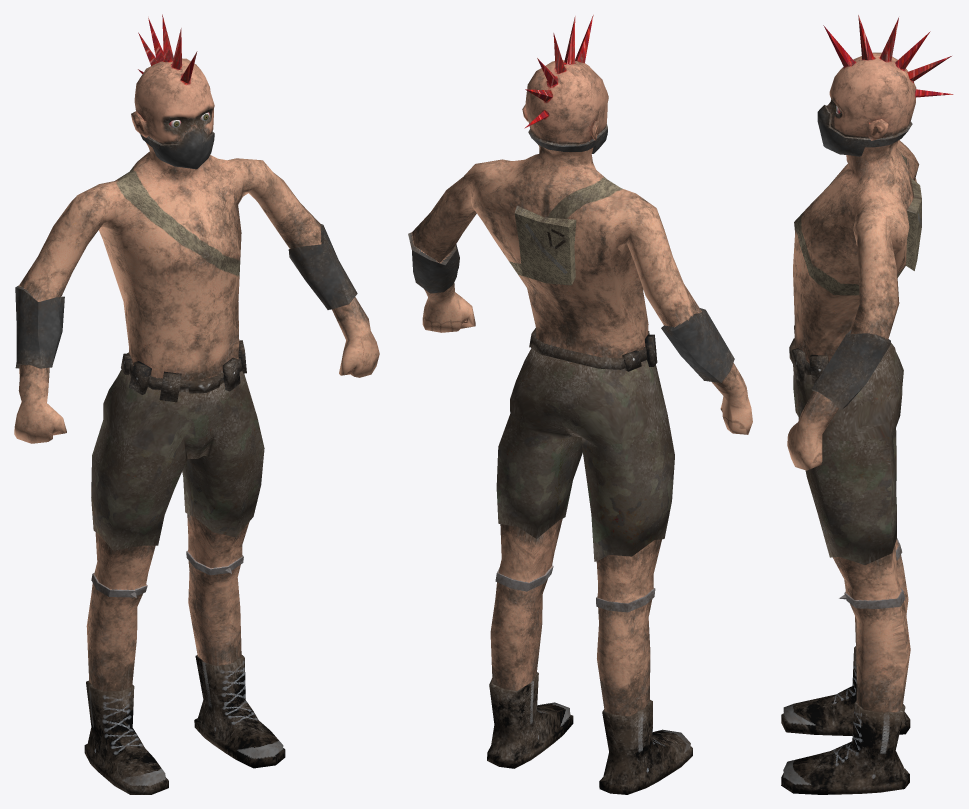
File: Anim_idle_npc2.0043.obj
3 views of the same model, side by side, from view 1: azimuth 30°, elevation 25°; view 2: azimuth 150°, elevation 25°; view 3: azimuth 270°, elevation 25° (orthographic). The views are drawn at different scales.
Visible parts, largest first — view 1: polySurface1; view 2: polySurface1; view 3: polySurface1.
Boxes of the visible parts, x1,y1,x2,y2 form: polySurface1: (14, 14, 379, 794); polySurface1: (408, 15, 752, 794); polySurface1: (781, 15, 953, 794).
Size of the model in its own units: 5.02 by 10.18 by 2.15.
2 materials, 2 textured.
